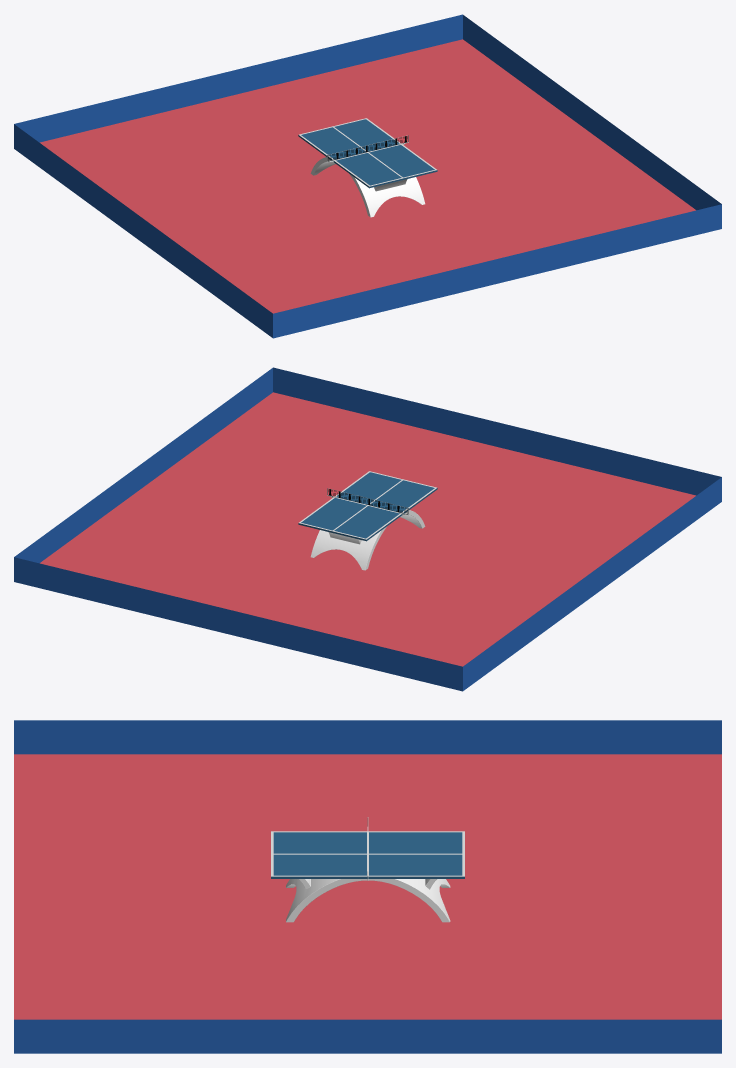
3 renders of one model, top to bottom at view 1: azimuth 30°, elevation 25°; view 2: azimuth 150°, elevation 25°; view 3: azimuth 270°, elevation 25°, orthographic. The views are drawn at different scales.
Parts seen in each view (by area): view 1: Plane, TableBase, TableStand, TableBorders; view 2: Plane, TableBase, TableStand, TableBorders; view 3: Plane, TableBase, TableStand, TableBorders.
Boxes of the visible parts, box(x1,y1,x2,y2) form: Plane: box(14, 14, 721, 338); TableBase: box(298, 119, 437, 188); TableStand: box(310, 157, 425, 217); TableBorders: box(299, 118, 436, 186); Plane: box(14, 367, 721, 691); TableBase: box(298, 472, 437, 541); TableStand: box(310, 510, 425, 570); TableBorders: box(299, 471, 436, 539); Plane: box(14, 720, 721, 1053); TableBase: box(271, 832, 464, 878); TableStand: box(286, 879, 450, 922); TableBorders: box(271, 831, 464, 876).
Size of the model in its own units: 20 by 1.87 by 20.
